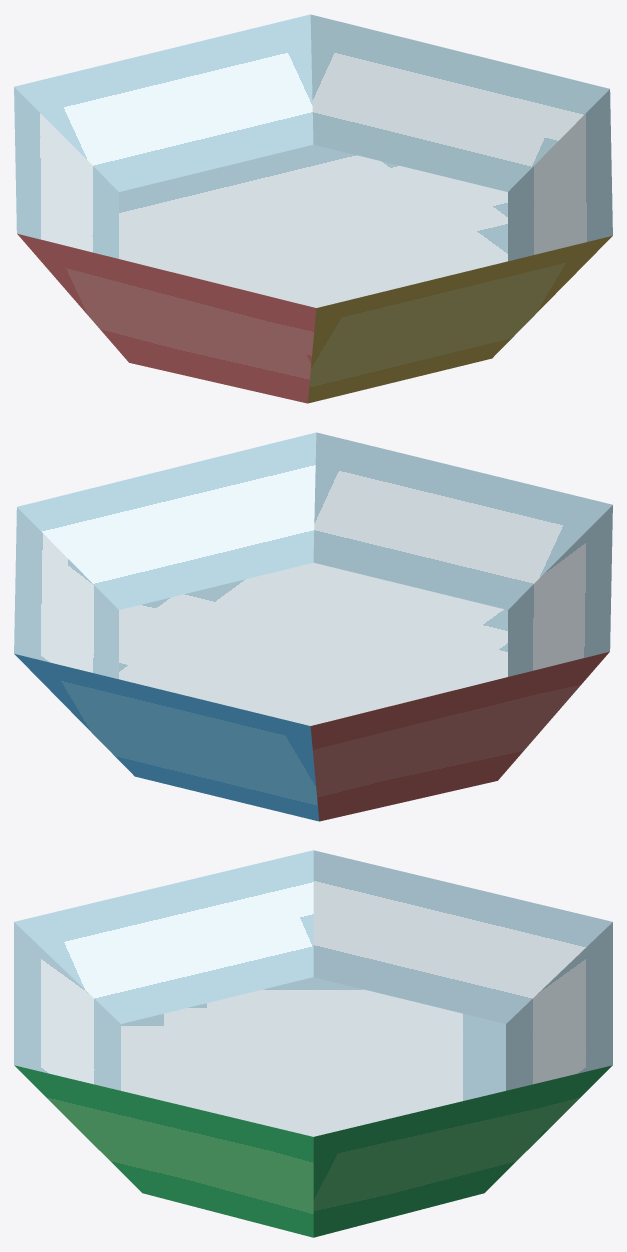
The model's file is scale_plate.obj.
The picture shows the model from 3 angles, top to bottom: view 1: azimuth 30°, elevation 25°; view 2: azimuth 150°, elevation 25°; view 3: azimuth 270°, elevation 25°; orthographic projection.
Visible parts, largest first — view 1: plate; view 2: plate; view 3: plate.
Part boxes in pixels (x1,y1,x2,y2): plate: (14, 14, 612, 403); plate: (14, 432, 612, 821); plate: (14, 850, 612, 1237).
Size of the model in its own units: 0.4955 by 0.125 by 0.4375.
1 material, 1 textured.
